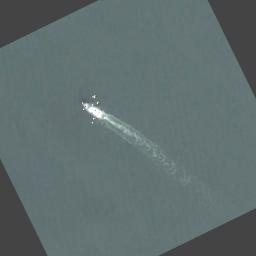boat: (80, 94, 108, 125)
